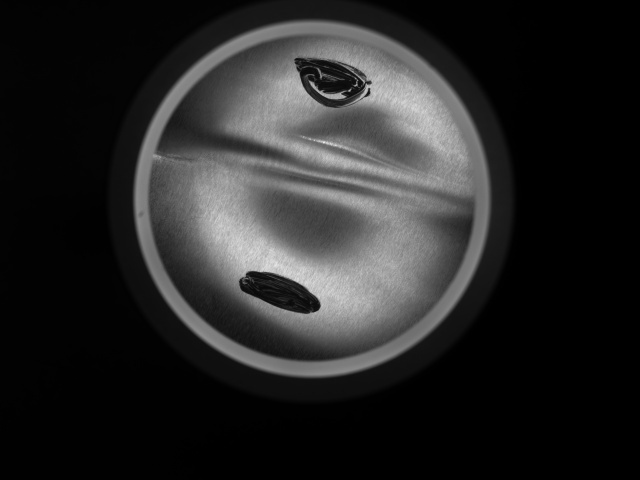zang_wu: (291, 53, 379, 111), (238, 268, 324, 315)
zhe_zhou: (187, 67, 432, 328)
